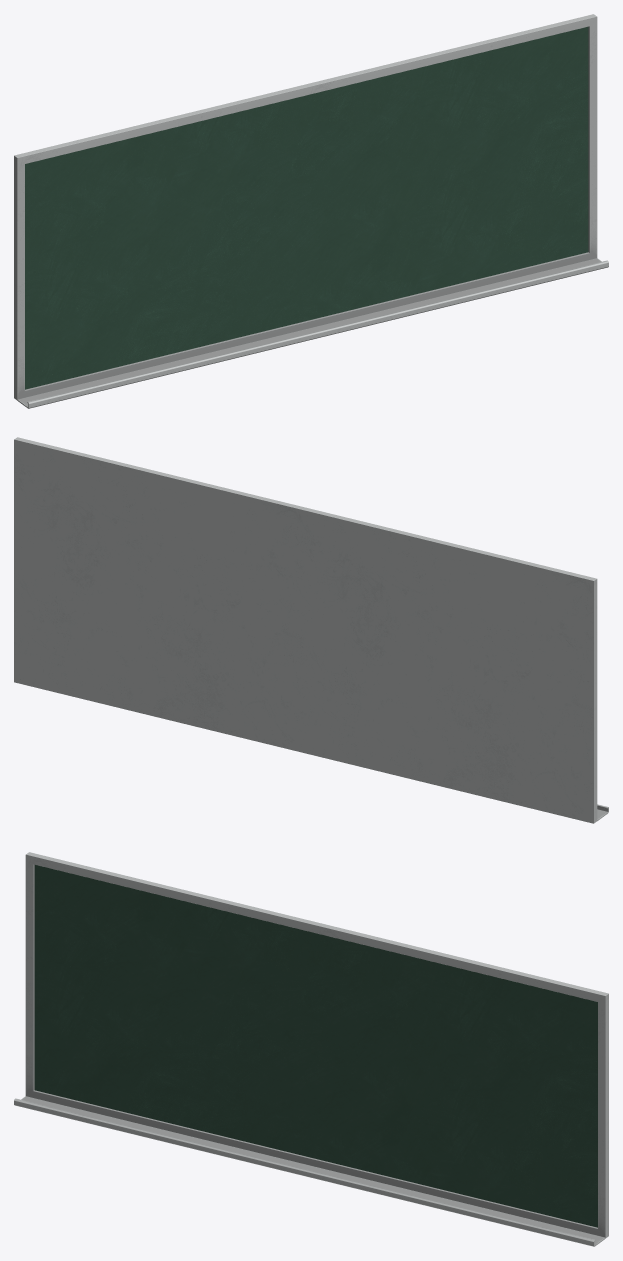
Rendered from Blackboard_300.FBX.
3 views of the same model, one above another, from view 1: azimuth 30°, elevation 25°; view 2: azimuth 150°, elevation 25°; view 3: azimuth 330°, elevation 25° (orthographic).
Parts seen in each view (by area): view 1: Blackboard_300; view 2: Blackboard_300; view 3: Blackboard_300.
Part boxes in pixels (x1,y1,x2,y2): Blackboard_300: (14, 14, 608, 408); Blackboard_300: (14, 437, 608, 823); Blackboard_300: (14, 852, 608, 1246).
Bounding box in the file's own units: 300 × 120 × 13.46.
